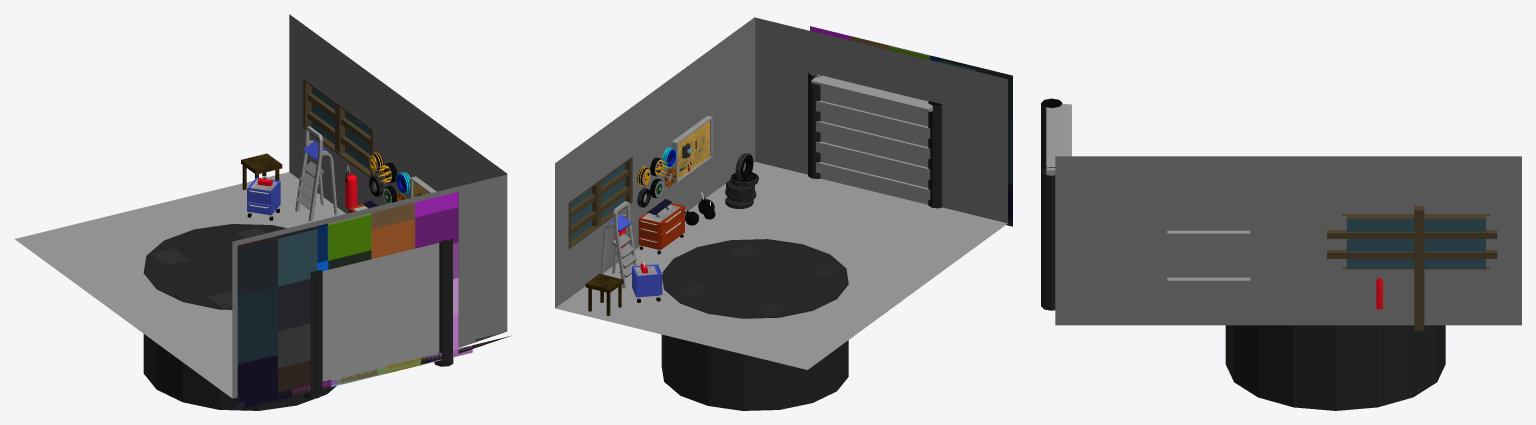
The model's file is LansaChamas.fbx.
3 views of the same model, side by side, from view 1: azimuth 30°, elevation 25°; view 2: azimuth 150°, elevation 25°; view 3: azimuth 270°, elevation 25° (orthographic). The views are drawn at different scales.
Visible parts, largest first — view 1: Interior; view 2: Interior; view 3: Interior.
Boxes of the visible parts, x1,y1,x2,y2 form: Interior: (15,14,511,410); Interior: (555,17,1012,410); Interior: (1041,98,1521,410).
Size of the model in its own units: 753 by 644 by 1015.
Materials: 1 (1 with a texture image).
